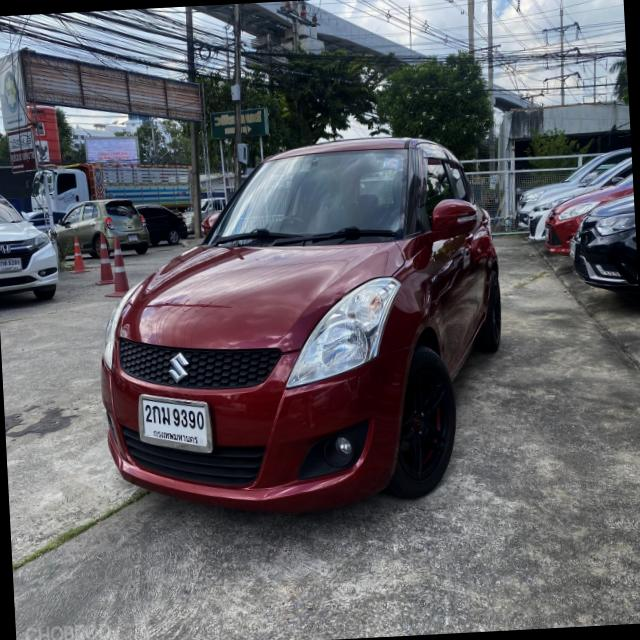license_plate: (137, 390, 218, 461), (0, 256, 24, 277)
